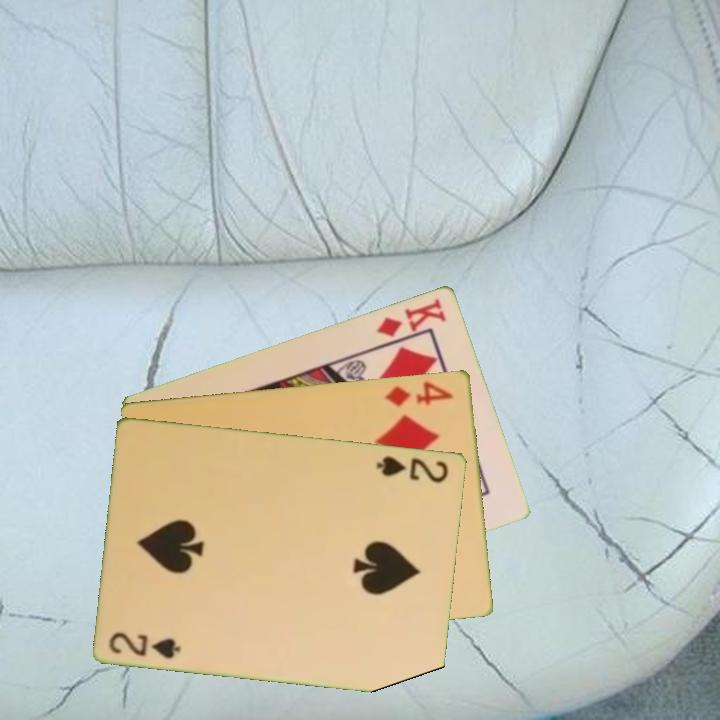2s: (373, 451, 452, 485), (106, 628, 184, 662)
4d: (381, 377, 457, 409)
Kd: (373, 294, 450, 340)
